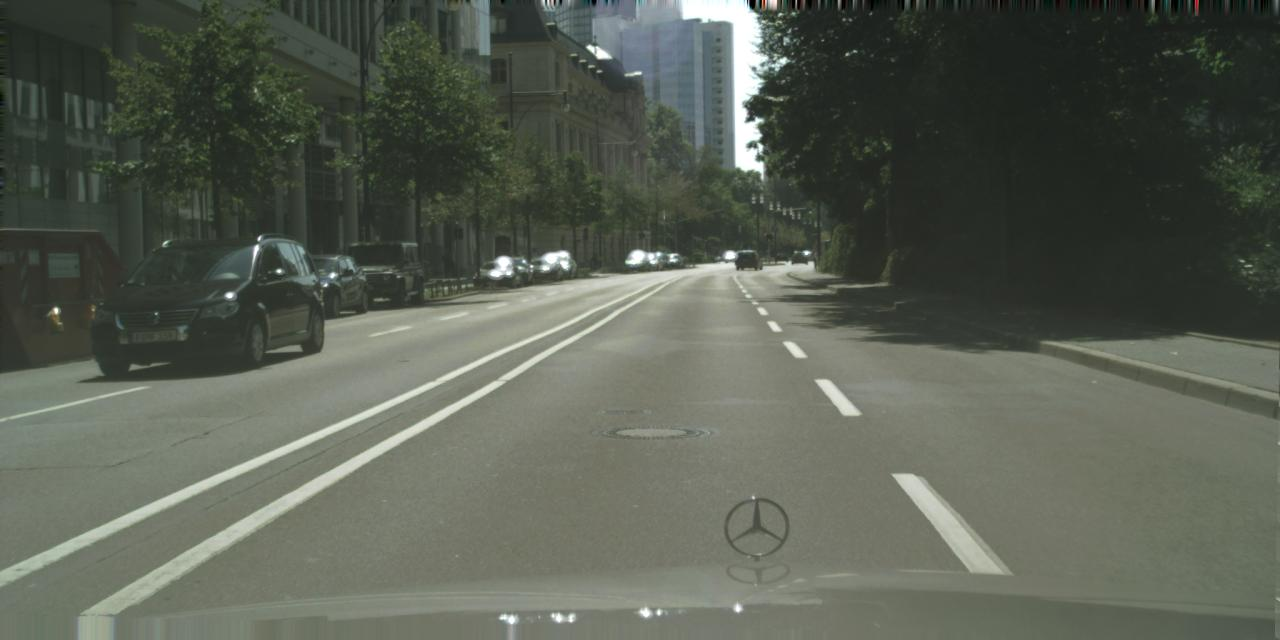ped: (811, 245, 820, 267)
